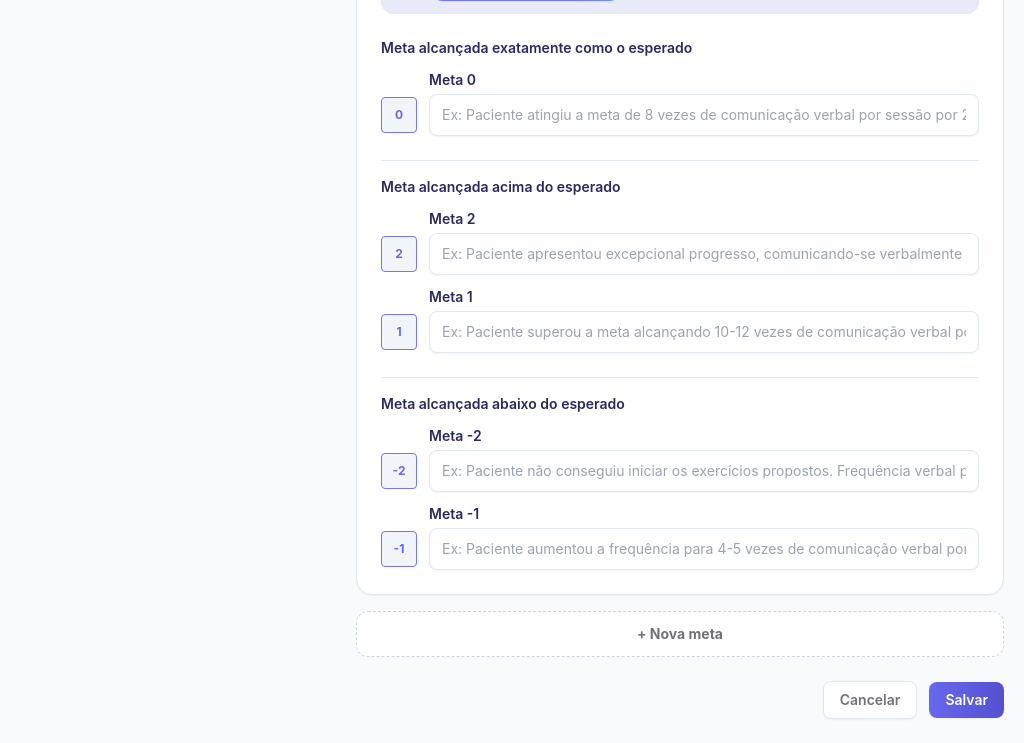
App - Integration Tests › 4. Validações Obrigatórias para Salvar GAS › deve validar Nome da GAS (obrigatório)
The width and height of the screenshot is (1024, 743).
(page scrolled)
// Tenta salvar sem preencher Nome da GAS
Step 1. Click the button "Salvar" → (967, 700), box [929,682,1004,718]
(page scrolled)
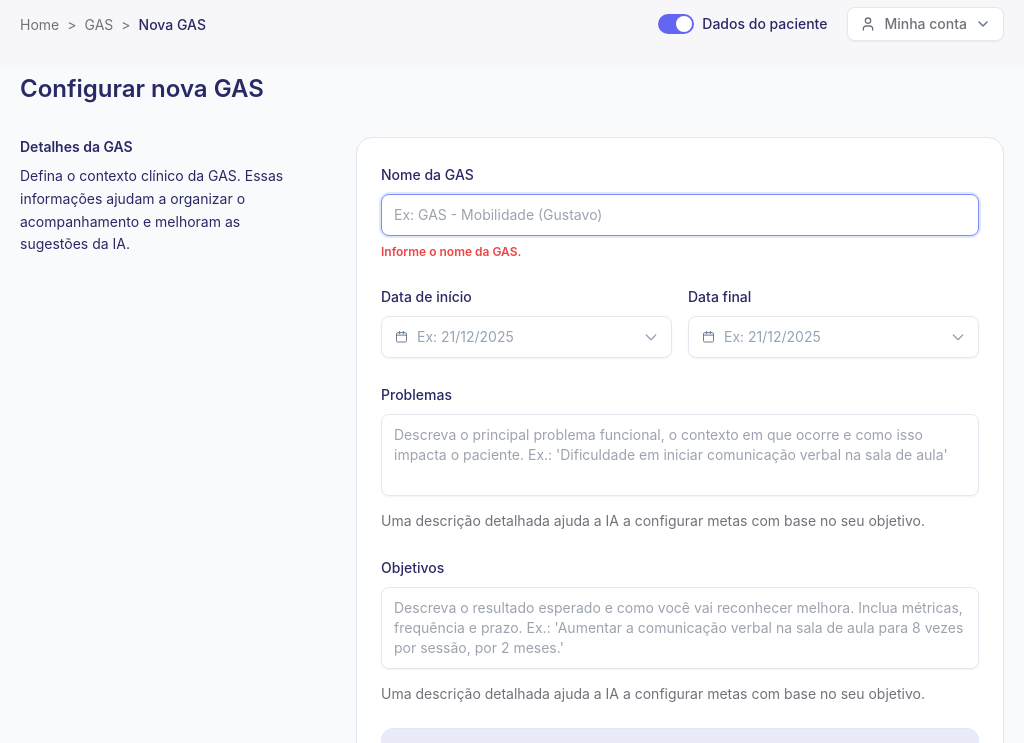
Result: the text "Informe o nome da GAS." is shown at [381,244,521,259]
